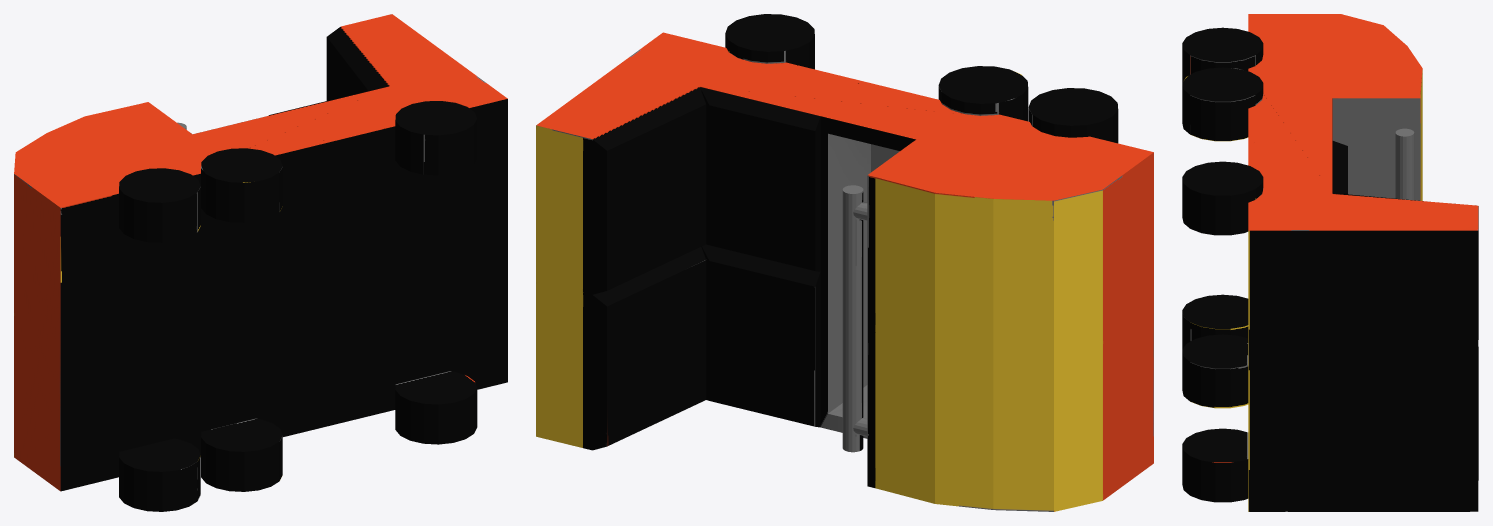
Rendered from seat.fbx.
3 views of the same model, side by side, from view 1: azimuth 30°, elevation 25°; view 2: azimuth 150°, elevation 25°; view 3: azimuth 270°, elevation 25° (orthographic). The views are drawn at different scales.
Visible parts, largest first — view 1: body; view 2: body; view 3: body.
Boxes of the visible parts, bbox=[...] form: body: bbox=[14, 14, 507, 511]; body: bbox=[536, 14, 1153, 511]; body: bbox=[1182, 14, 1478, 511].
Bounding box in the file's own units: 330 × 218 × 191.
